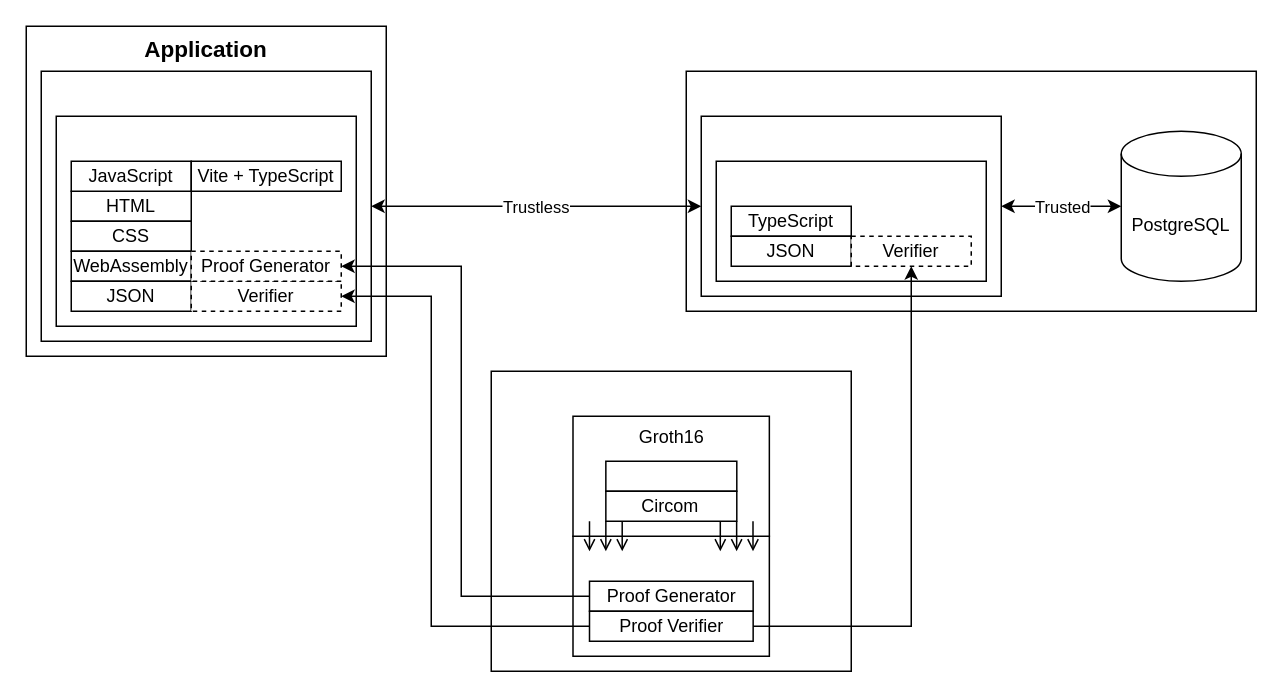
The diagram is 1283 pixels wide and 698 high, and some of its shapes have lost their labels. The shapes that lost their labels are listed below. From the top down, each one's box as (x1, y1, x2, y2) in pixels, then its label:
(40, 70, 371, 341): Front-End Web Application
(700, 115, 1001, 296): Server API
(685, 70, 1256, 311): System
(55, 115, 356, 326): Static Web Application
(715, 160, 986, 281): Serverless Services
(604, 460, 737, 491): Trusted Setup
(490, 370, 851, 671): zkSNARK - Proof of Computation
(572, 535, 769, 656): Compilation
